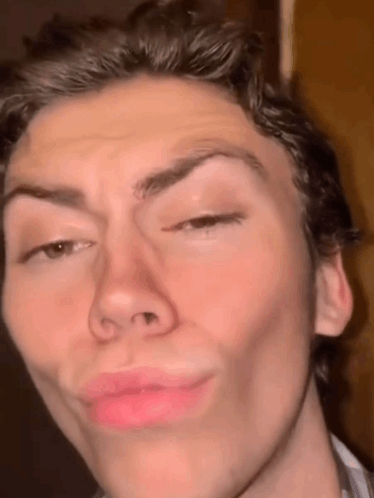mewing: (14, 60, 321, 478)
